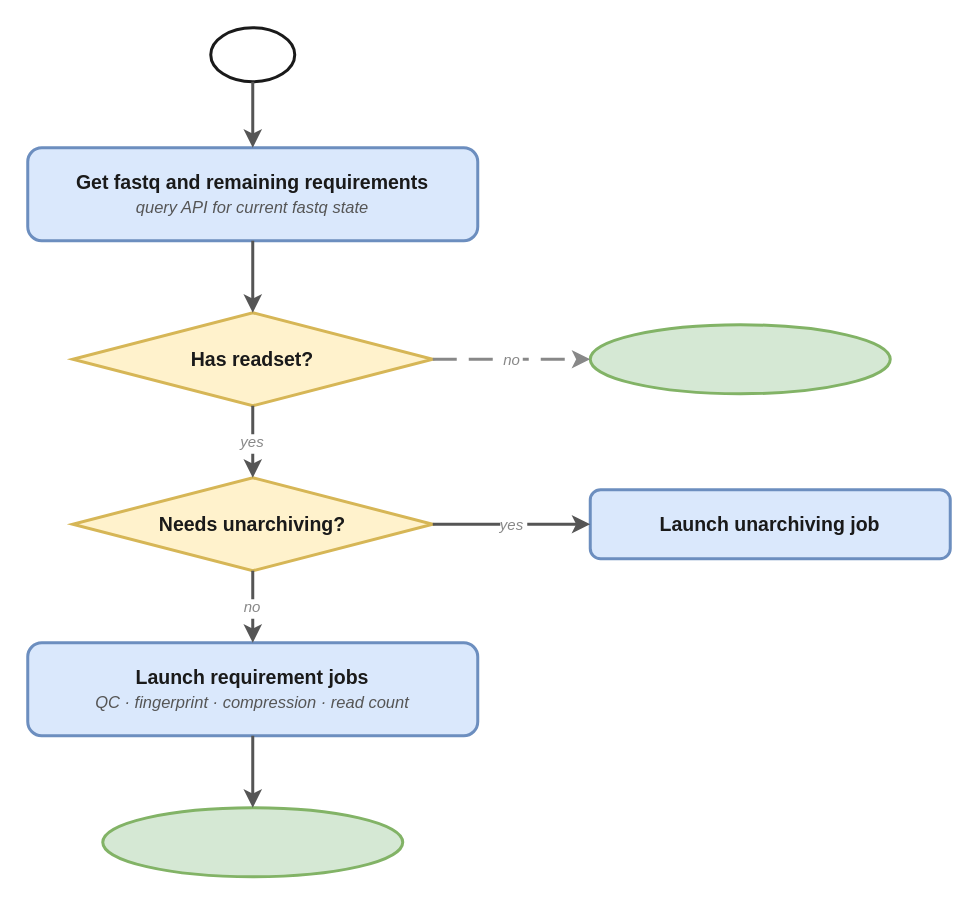
The diagram is 977 pixels wide and 903 high, and some of its shapes have lost their labels. Here are the shapes that lost their labels. From the top down, the centre of each, then its label:
At point 252,54: "Start".
At point 739,358: "No readset — end".
At point 252,842: "Success".
